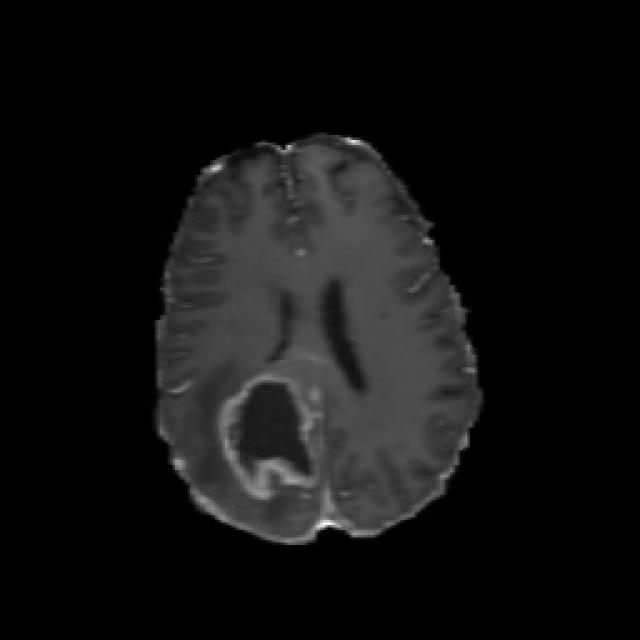negative: (219, 372, 319, 500)
